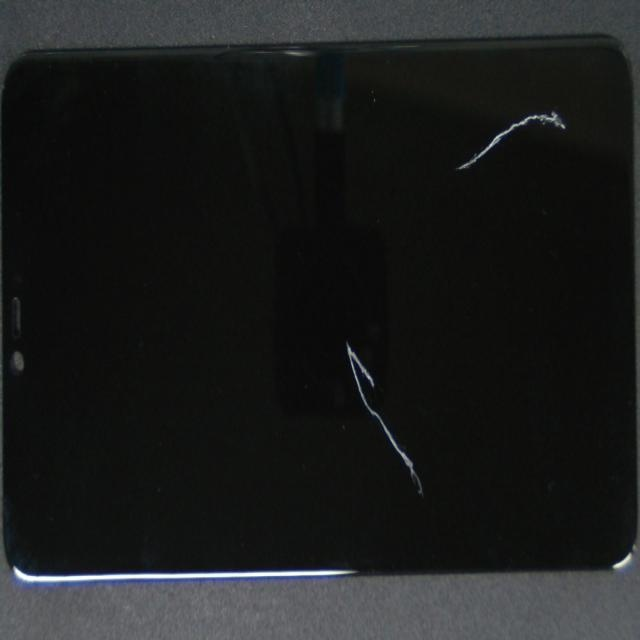scratch: (270, 344, 617, 640), (311, 82, 640, 183)
